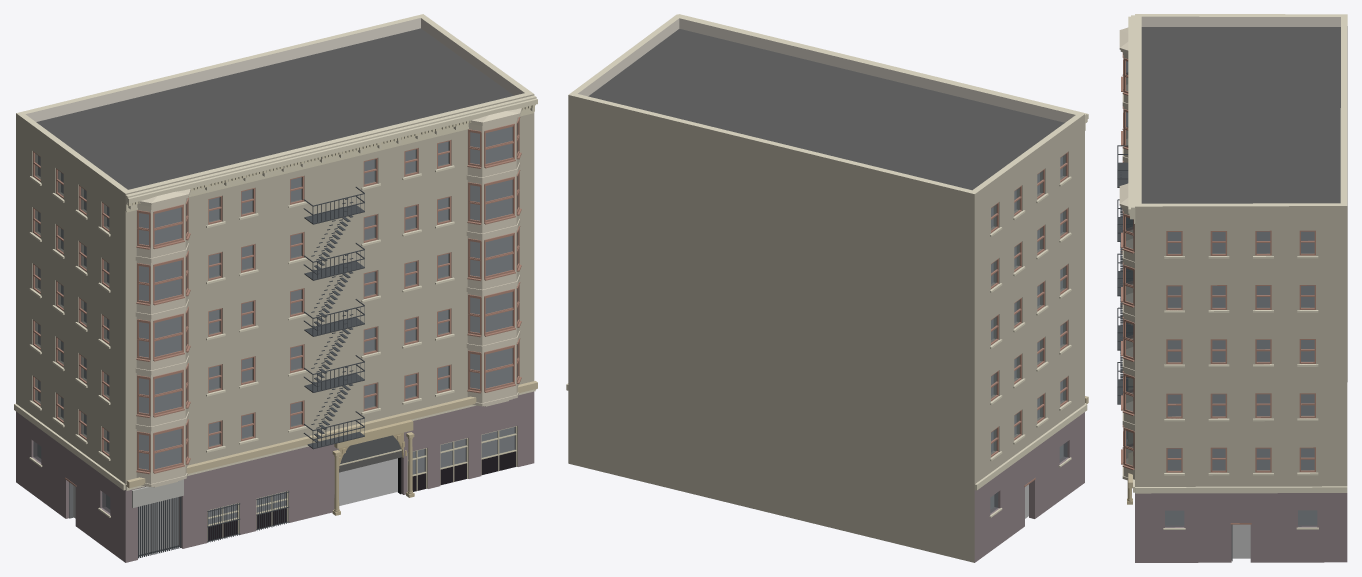
Rendered from exterior.glb.
3 renders of one model, left to right at view 1: azimuth 30°, elevation 25°; view 2: azimuth 150°, elevation 25°; view 3: azimuth 270°, elevation 25°, orthographic. The views are drawn at different scales.
Visible parts, largest first — view 1: shell, roof, shadow-proxy, bay-glazing-hyb, glazing, bay-windows-hyb, trim, frames, storefront, fire-escape, hand-ornament, front-dressing-r4 (+1 smaller); view 2: shell, roof, glazing, trim, frames, shadow-proxy; view 3: shell, roof, glazing, shadow-proxy, trim, frames, bay-glazing-hyb, bay-windows-hyb, fire-escape, hand-ornament.
Boxes of the visible parts, x1,y1,x2,y2 form: shell: (16, 14, 534, 562); roof: (36, 28, 513, 189); shadow-proxy: (37, 127, 514, 554); bay-glazing-hyb: (136, 117, 521, 474); glazing: (33, 141, 515, 524); bay-windows-hyb: (135, 108, 521, 487); trim: (14, 95, 537, 517); frames: (33, 140, 451, 456); storefront: (65, 426, 517, 558); fire-escape: (303, 186, 364, 449); hand-ornament: (126, 381, 537, 515); front-dressing-r4: (126, 108, 533, 472); shell: (568, 14, 1084, 562); roof: (588, 29, 1064, 190); glazing: (990, 154, 1067, 513); trim: (566, 14, 1088, 517); frames: (991, 152, 1068, 457); shadow-proxy: (990, 156, 1063, 518); shell: (1135, 14, 1347, 562); roof: (1141, 27, 1340, 203); glazing: (1165, 231, 1317, 527); shadow-proxy: (1165, 232, 1316, 558); trim: (1128, 15, 1347, 529); frames: (1166, 230, 1315, 472); bay-glazing-hyb: (1121, 52, 1134, 470); bay-windows-hyb: (1119, 27, 1134, 480); fire-escape: (1117, 145, 1132, 404); hand-ornament: (1127, 378, 1132, 504).
Size of the model in its own units: 23.95 by 20.46 by 11.97.
